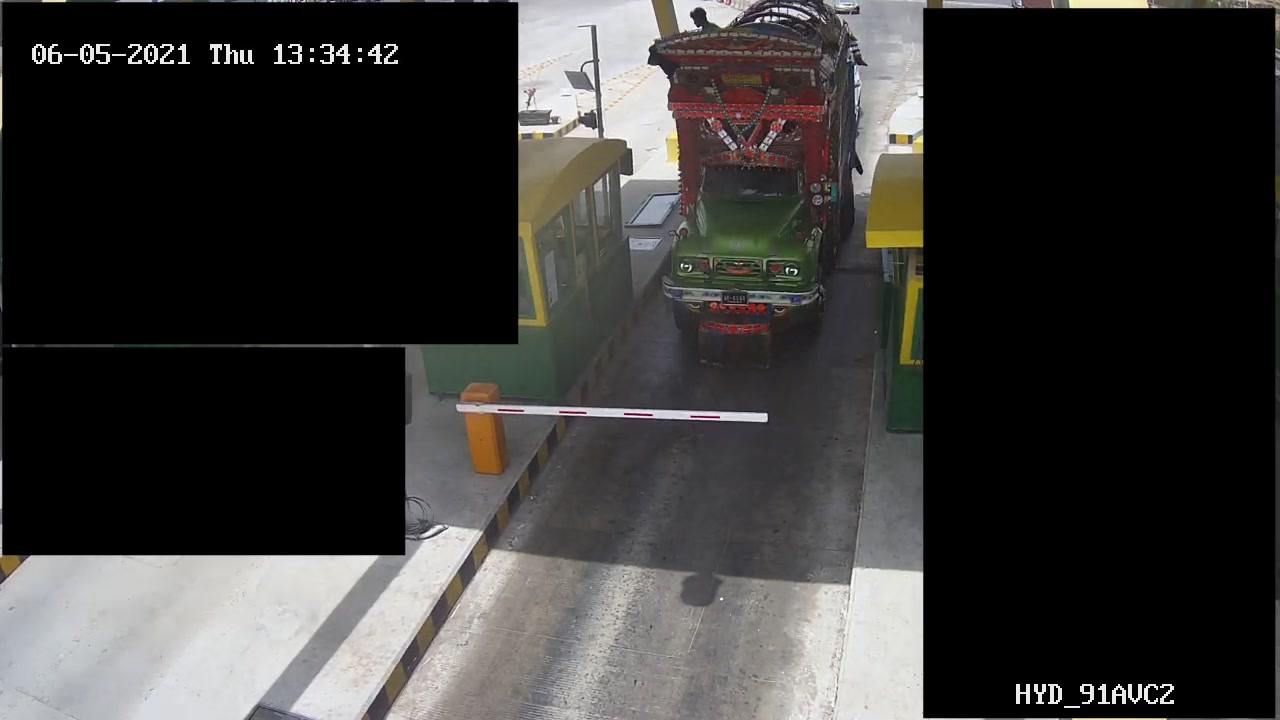F5: (662, 1, 858, 343)
